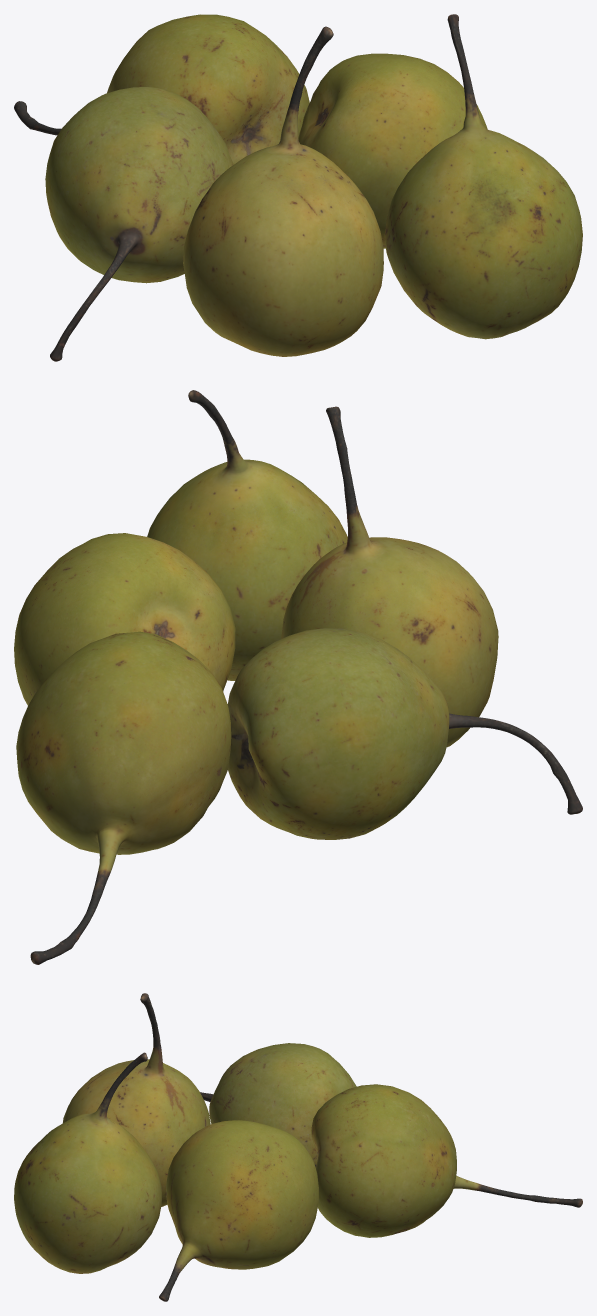
Rendered from food_pears_asian_01_4k.gltf.
3 views of the same model, one above another, from view 1: azimuth 30°, elevation 25°; view 2: azimuth 150°, elevation 25°; view 3: azimuth 270°, elevation 25° (orthographic). The views are drawn at different scales.
Parts seen in each view (by area): view 1: food_pears_asian_01_c, food_pears_asian_01_e, food_pears_asian_01_a, food_pears_asian_01_d, food_pears_asian_01_b; view 2: food_pears_asian_01_b, food_pears_asian_01_a, food_pears_asian_01_c, food_pears_asian_01_e, food_pears_asian_01_d; view 3: food_pears_asian_01_d, food_pears_asian_01_b, food_pears_asian_01_e, food_pears_asian_01_a, food_pears_asian_01_c.
Part boxes in pixels (x1,y1,x2,y2): food_pears_asian_01_c: [183, 26, 383, 356]; food_pears_asian_01_e: [384, 14, 582, 339]; food_pears_asian_01_a: [45, 87, 233, 361]; food_pears_asian_01_d: [298, 53, 487, 248]; food_pears_asian_01_b: [14, 14, 309, 164]; food_pears_asian_01_b: [16, 631, 231, 964]; food_pears_asian_01_a: [227, 628, 582, 839]; food_pears_asian_01_c: [281, 406, 498, 747]; food_pears_asian_01_e: [147, 390, 347, 680]; food_pears_asian_01_d: [14, 533, 235, 705]; food_pears_asian_01_d: [159, 1120, 318, 1301]; food_pears_asian_01_b: [311, 1084, 582, 1237]; food_pears_asian_01_e: [14, 1052, 161, 1273]; food_pears_asian_01_a: [200, 1043, 356, 1167]; food_pears_asian_01_c: [63, 993, 210, 1206].
Bounding box in the file's own units: 0.1261 × 0.0712 × 0.1669.
Materials: 1 (1 with a texture image).
